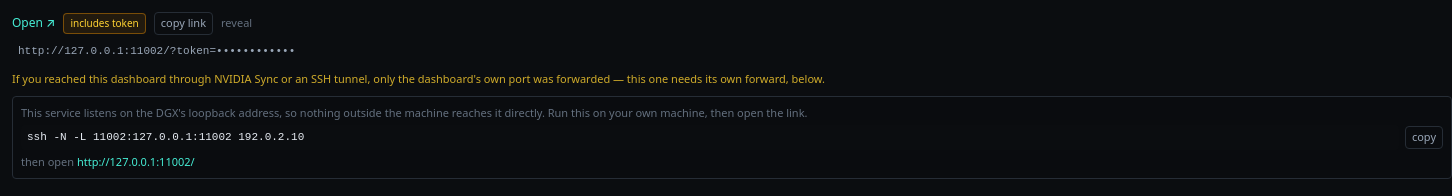
the access block › masks a token until revealed, but the link still carries it
This screenshot has width=1452, height=196.
expect the text "SECRETTOKEN123" is not shown: met
expect the text "includes token" is shown: met, box [63,13,146,34]
Step 1. Click the button "reveal" → (237, 23), box [221,15,252,32]
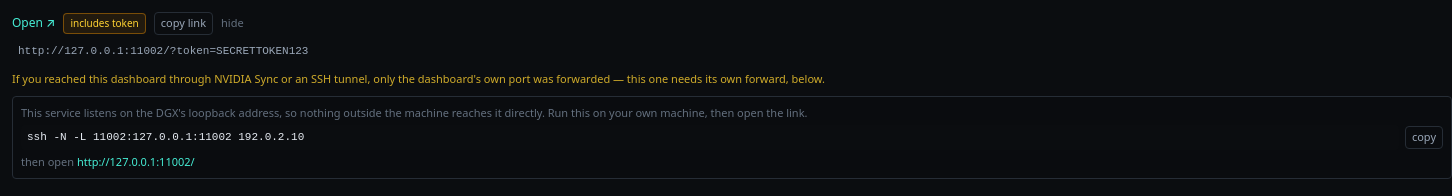
expect the text "http://127.0.0.1:11002/?token=SECRETTOKEN123" is shown: met, box [12,38,1451,63]
